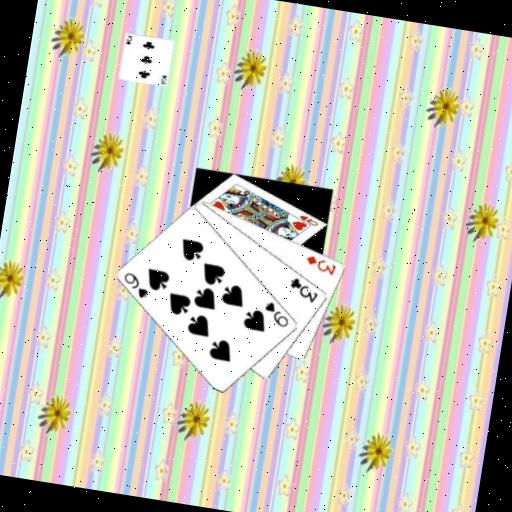3C: (285, 273, 322, 305)
3D: (301, 251, 339, 277)
9S: (259, 297, 293, 329), (118, 268, 152, 300)
